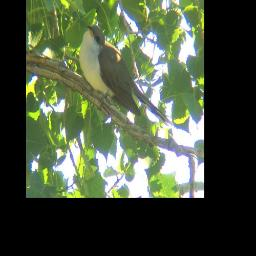Cuckoo: (78, 24, 175, 127)
